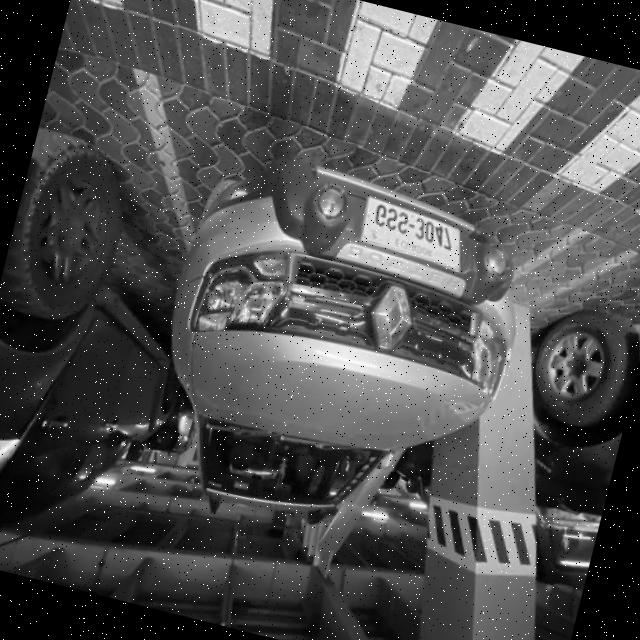Placa: (360, 196, 460, 272)
